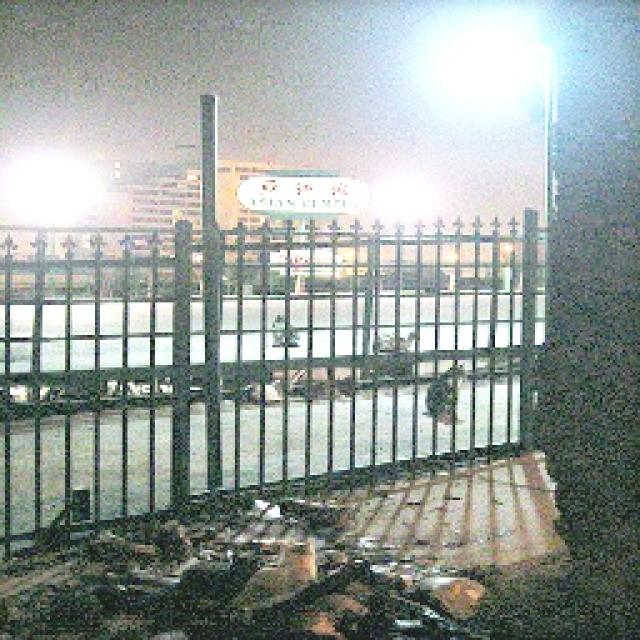cat: (233, 530, 329, 613), (422, 358, 471, 436)
